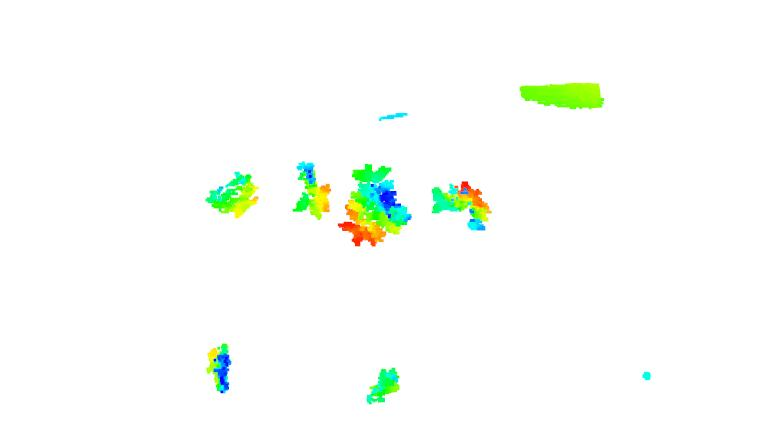chickpea: (334, 163, 416, 249), (429, 179, 492, 233), (291, 158, 332, 221), (205, 170, 261, 216), (362, 365, 409, 407), (203, 342, 233, 393)
